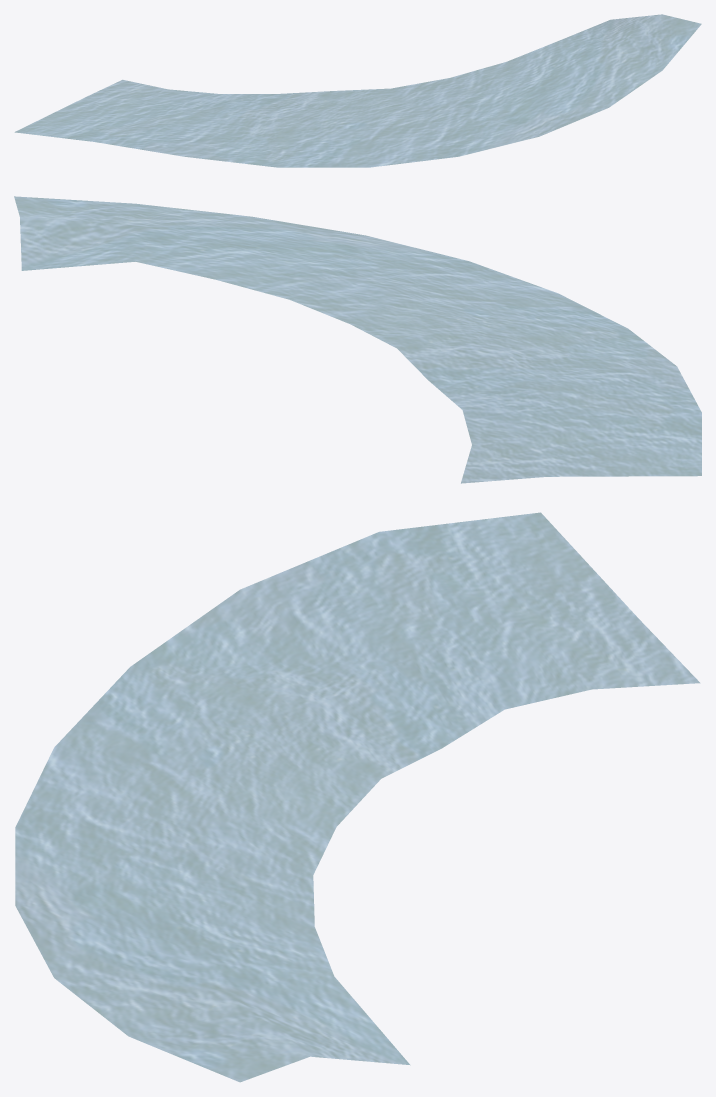
File: Sea 1.FBX
3 renders of one model, top to bottom at view 1: azimuth 30°, elevation 25°; view 2: azimuth 150°, elevation 25°; view 3: azimuth 270°, elevation 25°, orthographic. The views are drawn at different scales.
Parts seen in each view (by area): view 1: Watersea001; view 2: Watersea001; view 3: Watersea001.
Part boxes in pixels (x1,y1,x2,y2): Watersea001: (15,14,701,167); Watersea001: (14,196,701,483); Watersea001: (15,512,699,1082).
Bounding box in the file's own units: 4.93 × 0.2227 × 2.39.
Materials: 1 (1 with a texture image).
